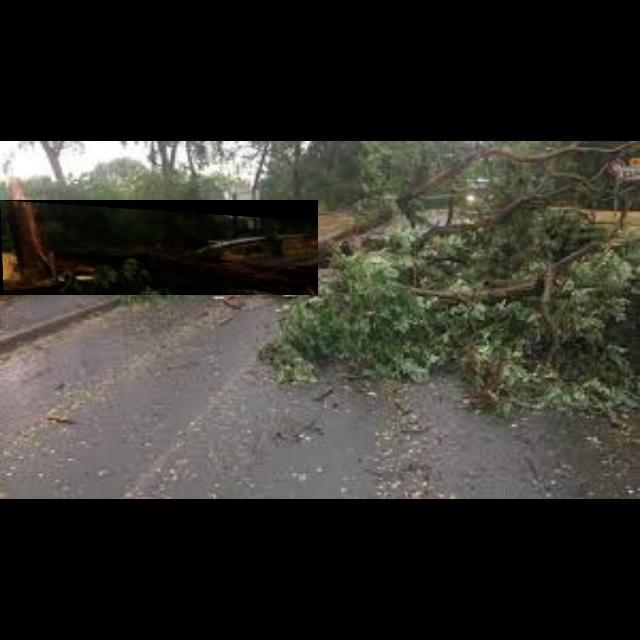fallen_tree: (0, 200, 319, 296)
